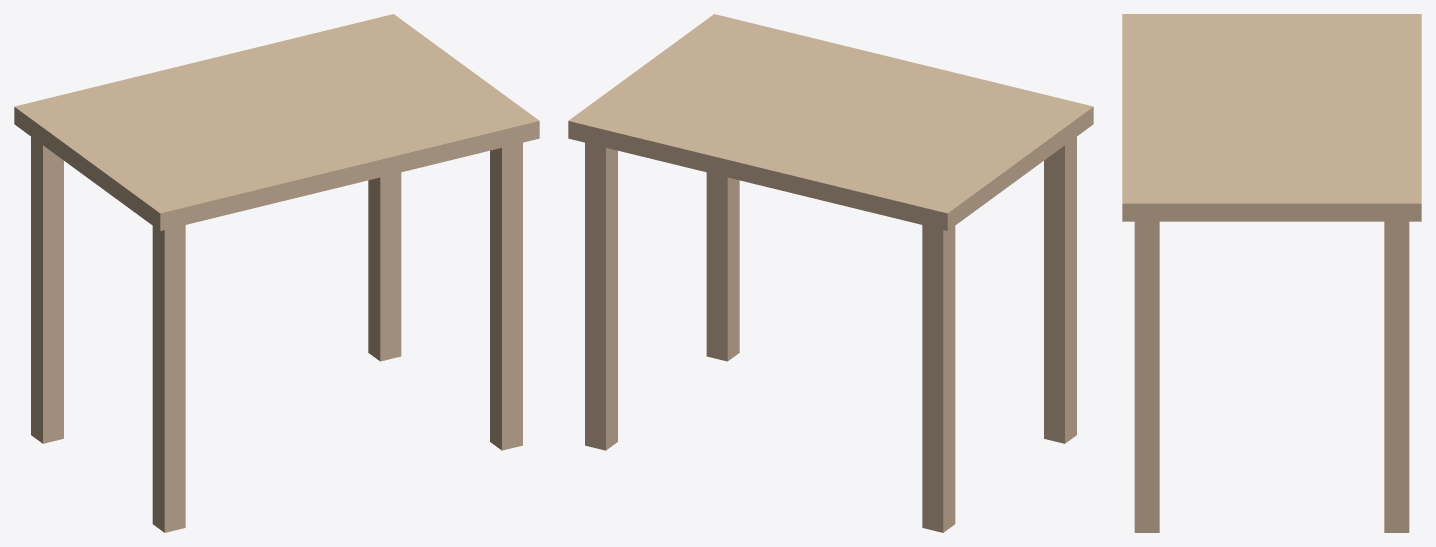
The model's file is desk.glb.
3 views of the same model, side by side, from view 1: azimuth 30°, elevation 25°; view 2: azimuth 150°, elevation 25°; view 3: azimuth 270°, elevation 25° (orthographic). The views are drawn at different scales.
Visible parts, largest first — view 1: part_0, part_2, part_1, part_4, part_3; view 2: part_0, part_4, part_3, part_2, part_1; view 3: part_0, part_1, part_3.
Boxes of the visible parts, x1,y1,x2,y2 form: part_0: (14,14,539,230); part_2: (152,225,185,532); part_1: (490,142,522,450); part_4: (31,137,63,443); part_3: (368,172,401,361); part_0: (568,14,1093,230); part_4: (922,225,955,532); part_3: (585,142,617,450); part_2: (1044,137,1076,443); part_1: (706,172,739,361); part_0: (1122,14,1421,221); part_1: (1134,221,1159,532); part_3: (1384,221,1409,532).
Size of the model in its own units: 0.9 by 0.74 by 0.6.
